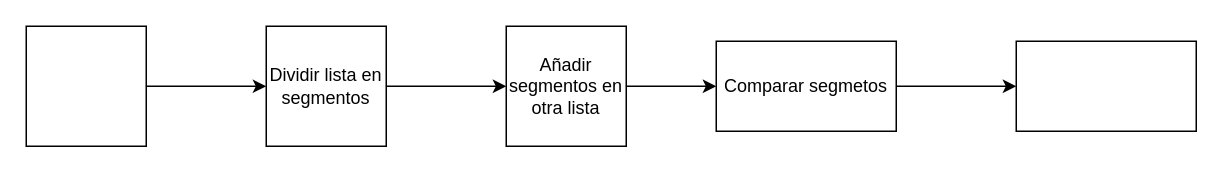
Some shapes in this 1223 by 173 pixel diagram are drawn without their labels. The centre of each missing label's shape, as x and y in pixels:
"Lista" goes at point 85,85.
"Ordenar segmentos" goes at point 1105,85.
